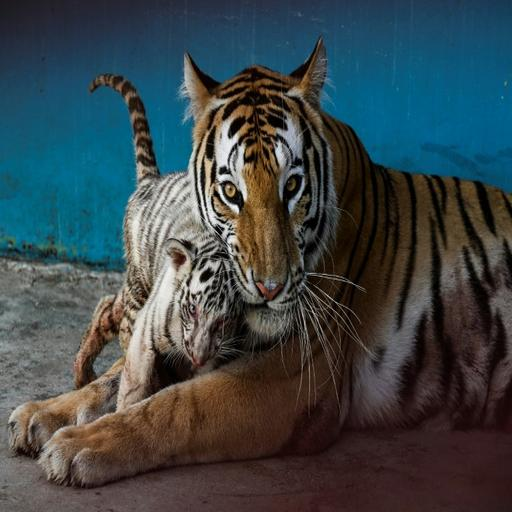Tiger: (2, 32, 512, 489), (51, 52, 268, 445)
